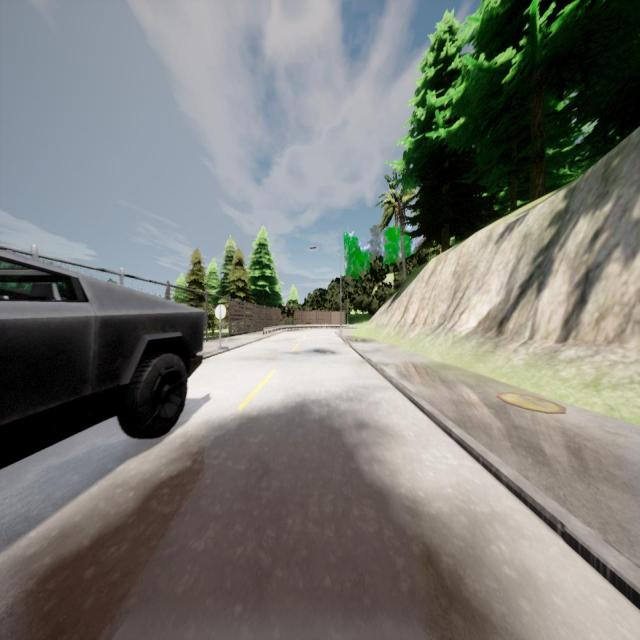Traffic_Signs: (215, 304, 227, 320)
Vehicle: (0, 249, 206, 468)
